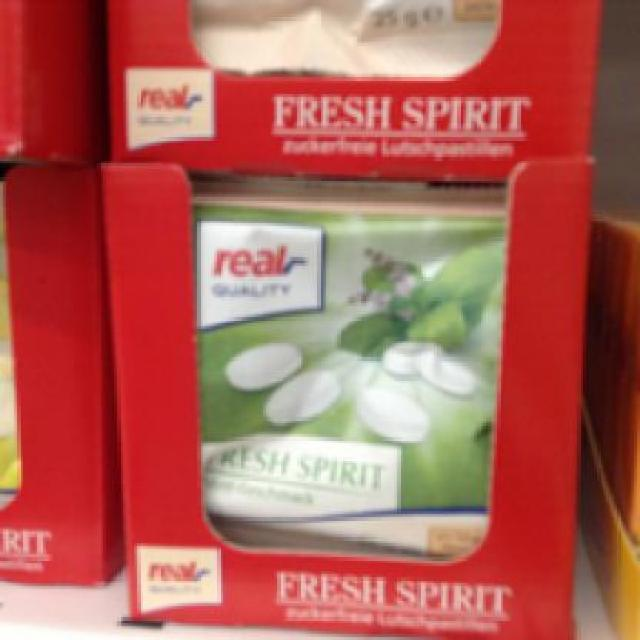Candy: (192, 177, 498, 566)
